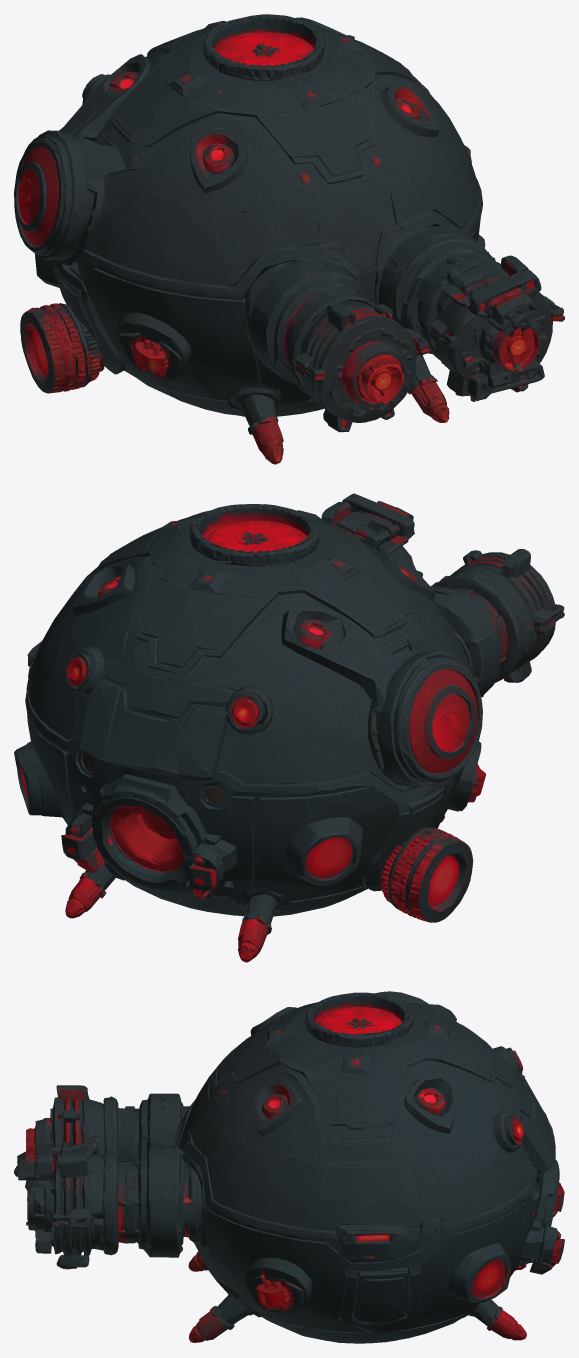
Rendered from recon_drone_raw.glb.
The picture shows the model from 3 angles, top to bottom: view 1: azimuth 30°, elevation 25°; view 2: azimuth 150°, elevation 25°; view 3: azimuth 270°, elevation 25°; orthographic projection. The views are drawn at different scales.
Size of the model in its own units: 1.46 by 1.15 by 1.89.
1 material, 1 textured.
